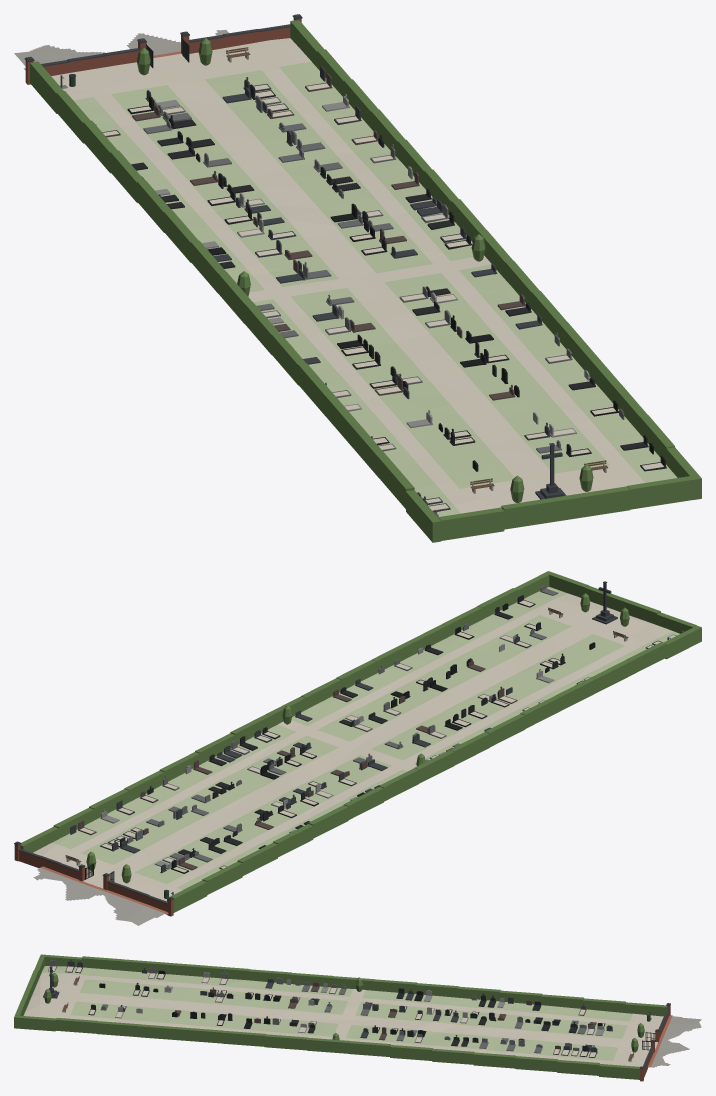
File: cemetery.glb
3 renders of one model, top to bottom at view 1: azimuth 30°, elevation 25°; view 2: azimuth 150°, elevation 25°; view 3: azimuth 270°, elevation 25°, orthographic. The views are drawn at different scales.
Visible parts, largest first — view 1: vh_lawn, vh_gravel, vh_hedge, vh_stone, vh_granite, vh_brick, vh_pavers; view 2: vh_lawn, vh_gravel, vh_hedge, vh_stone, vh_granite, vh_pavers, vh_brick; view 3: vh_hedge, vh_lawn, vh_gravel, vh_stone, vh_granite, vh_pavers, vh_brick.
Boxes of the visible parts, x1,y1,x2,y2 form: vh_lawn: (73,62,677,516); vh_gravel: (51,38,663,513); vh_hedge: (30,20,701,542); vh_stone: (24,14,679,517); vh_granite: (95,73,666,471); vh_brick: (25,18,301,84); vh_pavers: (14,29,228,70); vh_lawn: (52,587,679,889); vh_gravel: (33,593,675,901); vh_hedge: (20,571,701,912); vh_stone: (14,581,683,903); vh_granite: (78,595,595,873); vh_pavers: (33,867,164,925); vh_brick: (14,844,173,916); vh_hedge: (14,954,667,1079); vh_lawn: (23,966,632,1060); vh_gravel: (24,966,663,1066); vh_stone: (43,958,670,1069); vh_granite: (88,970,605,1056); vh_pavers: (651,1016,701,1067); vh_brick: (640,1005,670,1081).
Bounding box in the file's own units: 37.35 × 5.84 × 96.9.
